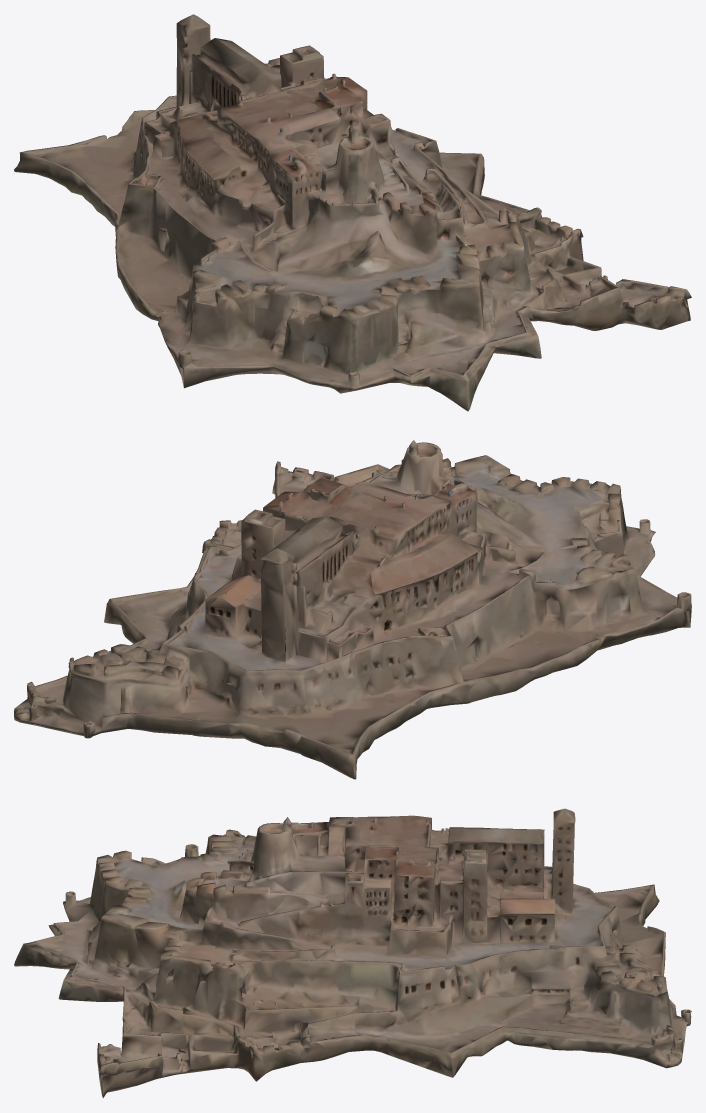
File: a3D-castillo.glb
3 views of the same model, one above another, from view 1: azimuth 30°, elevation 25°; view 2: azimuth 150°, elevation 25°; view 3: azimuth 270°, elevation 25° (orthographic). The views are drawn at different scales.
Visible parts, largest first — view 1: geometry_0; view 2: geometry_0; view 3: geometry_0.
Boxes of the visible parts, <box> form: geometry_0: <box>14,14,691,411</box>; geometry_0: <box>14,440,691,779</box>; geometry_0: <box>14,808,691,1097</box>.
Bounding box in the file's own units: 1.41 × 0.5555 × 1.9.
Materials: 1 (1 with a texture image).
